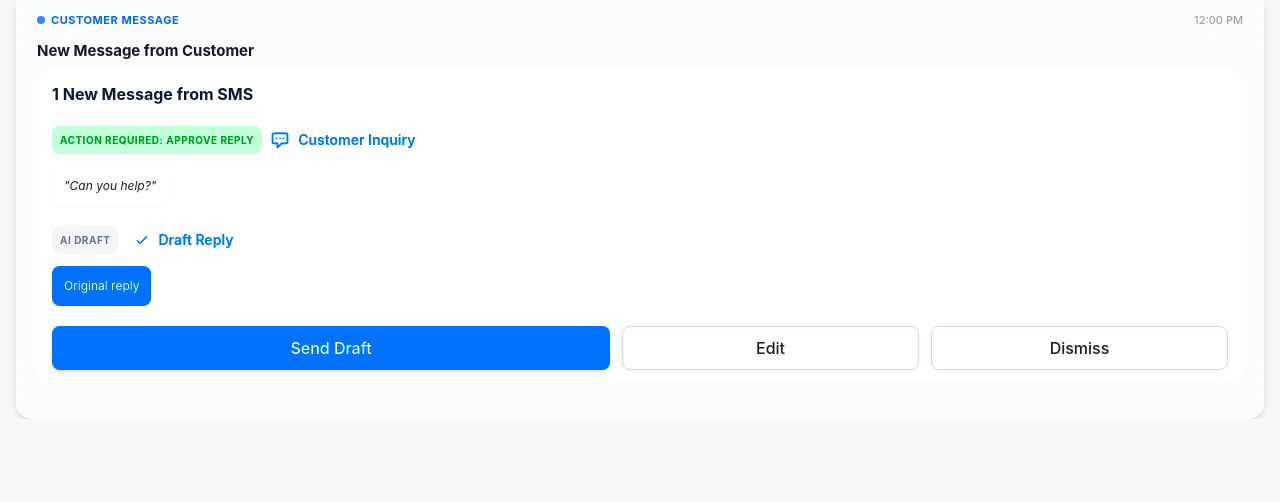
FeedPage › saves and approves the edited Ambassador draft when the owner chooses Save & Send
This screenshot has width=1280, height=502.
Expected: the element with test id "ambassador-reply-card" is shown, [37,69,1243,382]
Click the button with test id "feed-edit-btn".
click(770, 348)  # box [622,326,919,370]
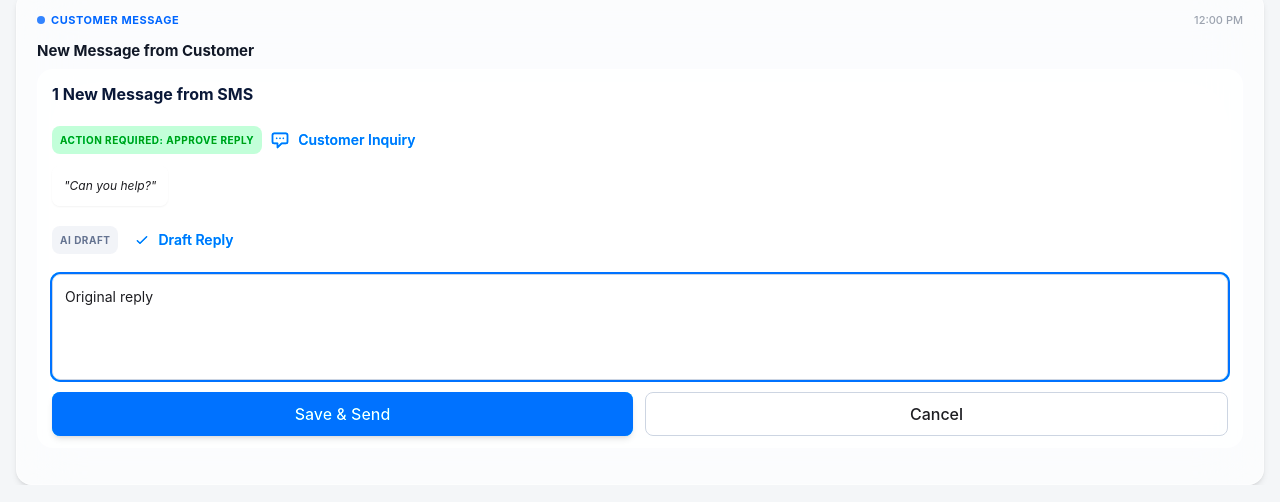
Replace the text in the text box with test id "feed-edit-input" with "Owner-reviewed reply" at (640, 327), box [52,274,1228,380]
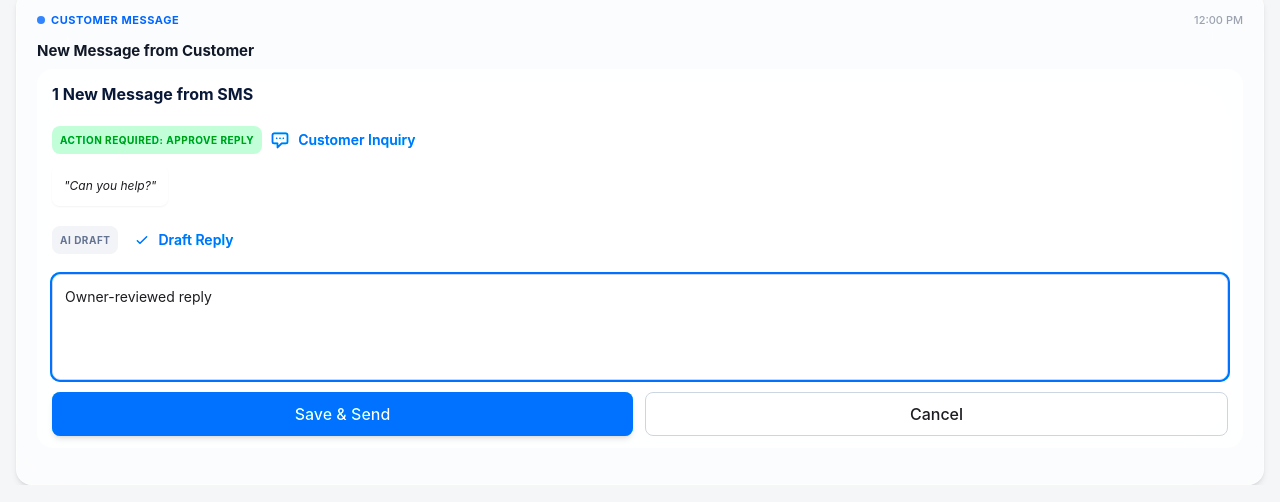
Click the button with test id "feed-save-edit-btn".
click(342, 414)  # box [52,392,633,436]
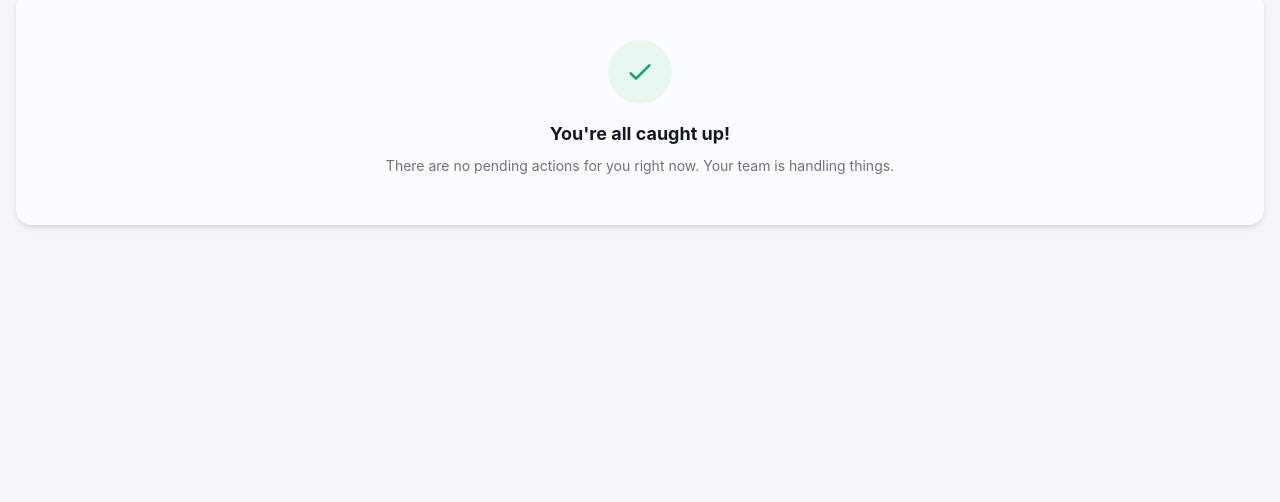
Now the element with test id "ambassador-reply-card" is gone
